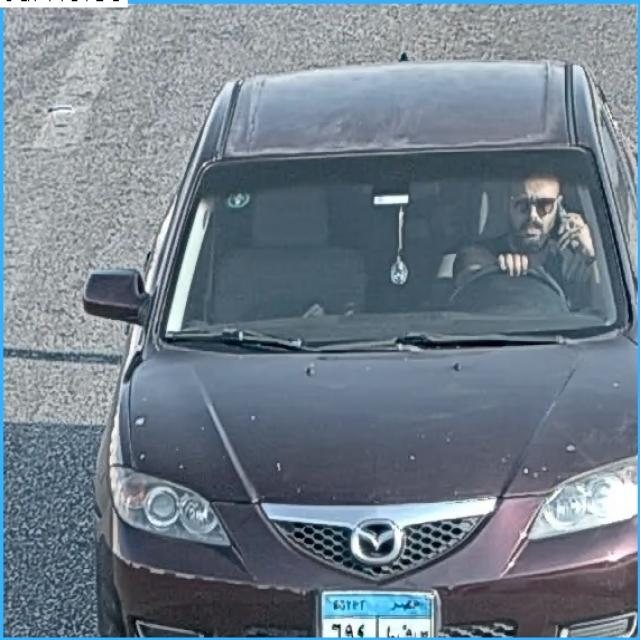windshield: (170, 142, 626, 369)
